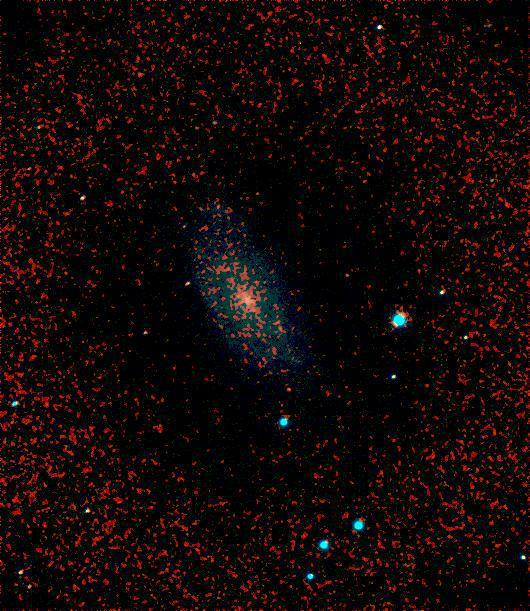star: (365, 10, 395, 40)
